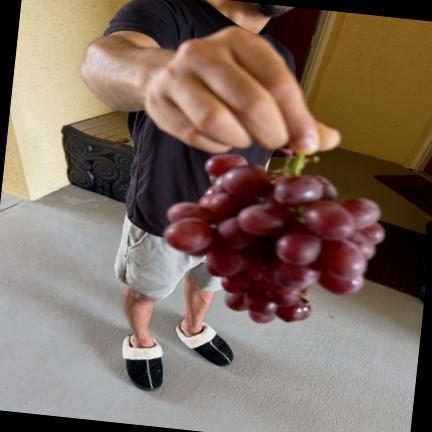grape_cluster: (163, 149, 385, 323)
